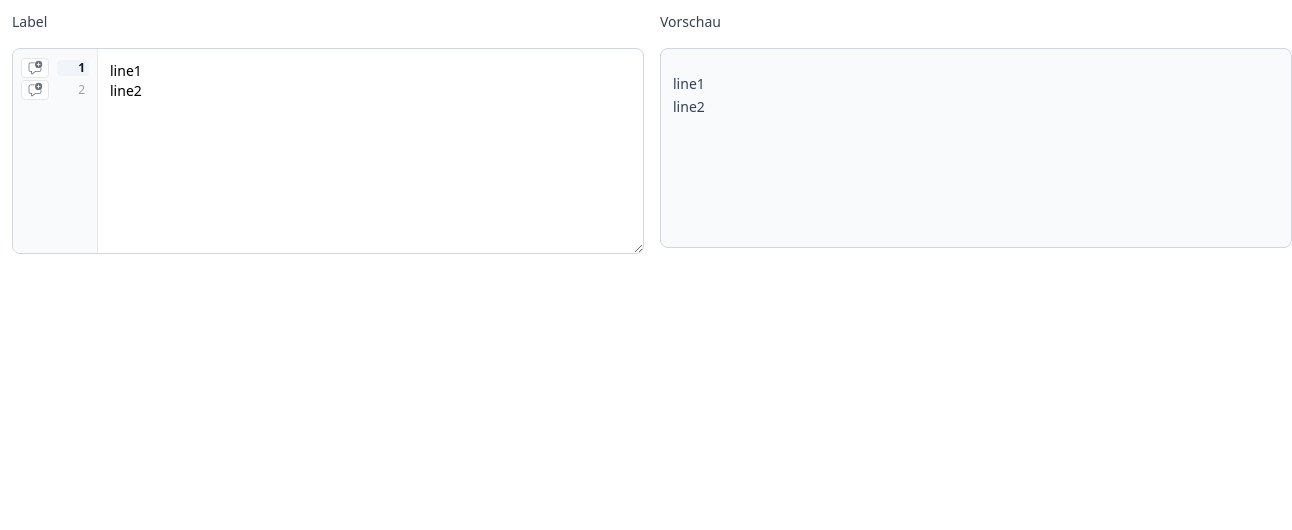
Test case: MarkdownEditorWithPreviewComments.vue (neu) › closePanel über X
Click the button titled "Kommentare zu Zeile 1": [73, 68] box [57, 60, 89, 76]
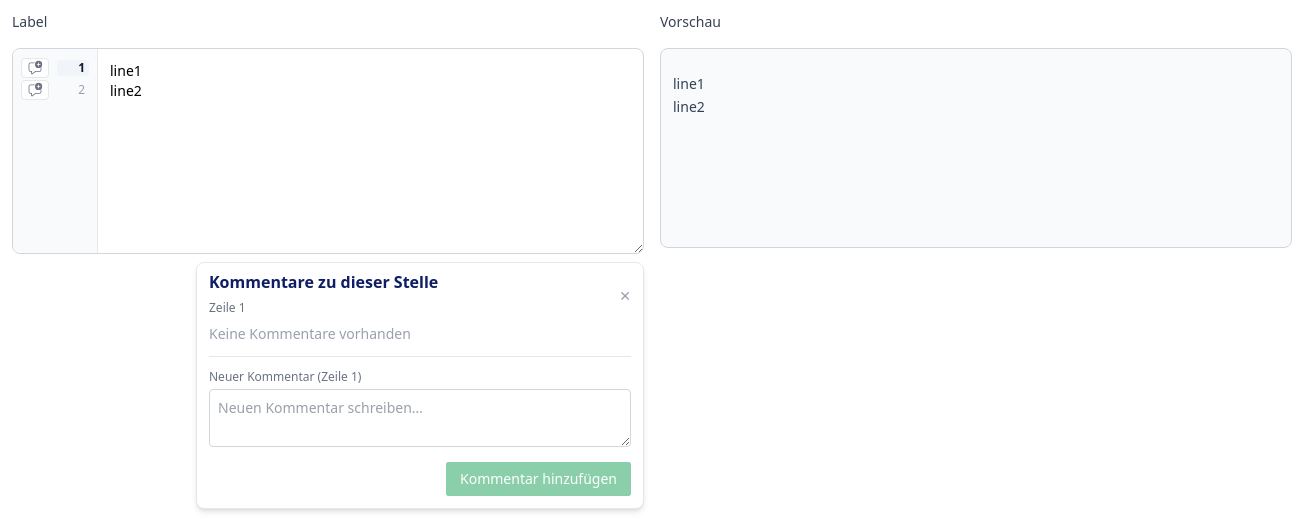
expect the text "Kommentare zu dieser Stelle" is shown: met, box [209, 275, 438, 290]
expect the button named "Kommentare schließen" is shown: met
Click the button named "Kommentare schließen": [625, 296] box [619, 286, 631, 306]
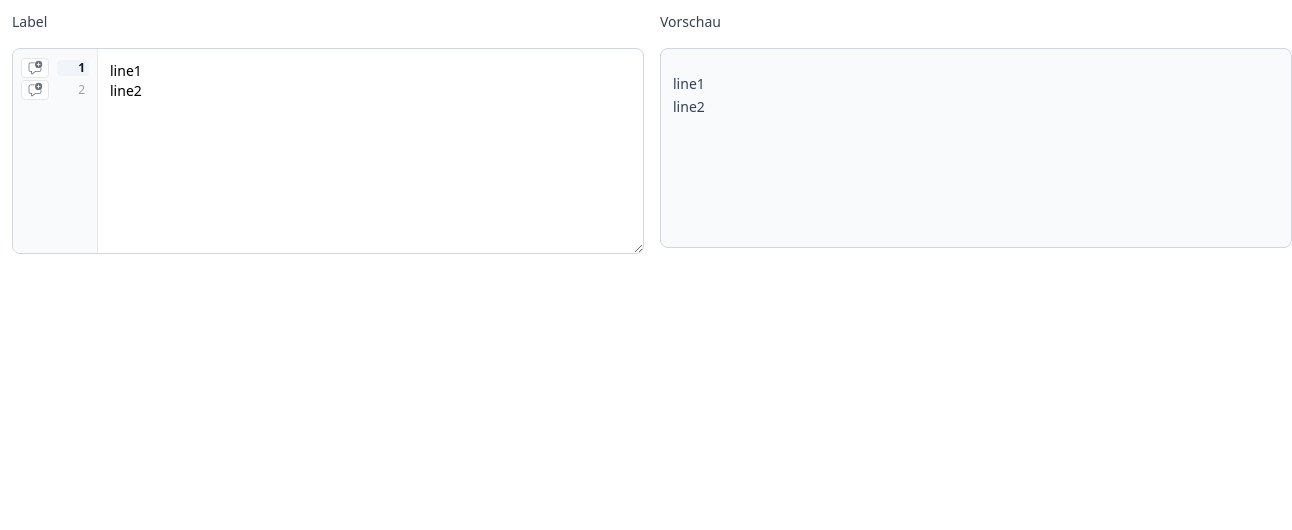
expect the text "Kommentare zu dieser Stelle" is gone: met
